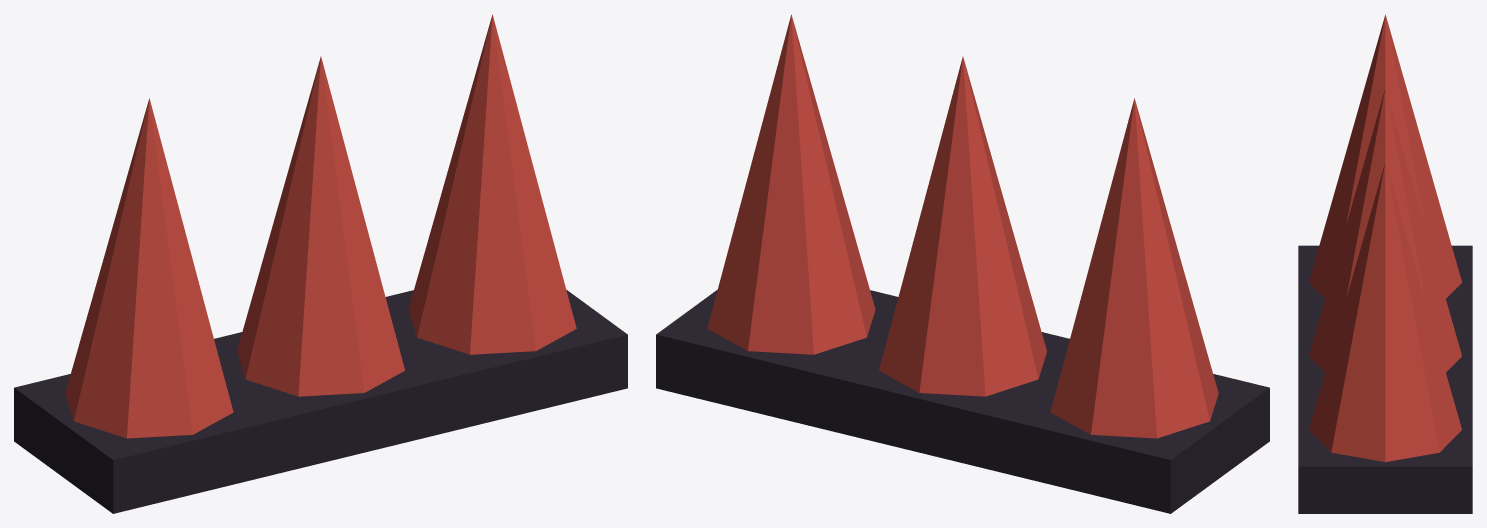
Rendered from spike_trap.glb.
3 renders of one model, left to right at view 1: azimuth 30°, elevation 25°; view 2: azimuth 150°, elevation 25°; view 3: azimuth 270°, elevation 25°, orthographic. The views are drawn at different scales.
Visible parts, largest first — view 1: SpikeTrap_Plate, SpikeTrap_Tooth_3, SpikeTrap_Tooth_1, SpikeTrap_Tooth_2; view 2: SpikeTrap_Plate, SpikeTrap_Tooth_3, SpikeTrap_Tooth_1, SpikeTrap_Tooth_2; view 3: SpikeTrap_Tooth_3, SpikeTrap_Plate, SpikeTrap_Tooth_1, SpikeTrap_Tooth_2.
Boxes of the visible parts, x1,y1,x2,y2 form: SpikeTrap_Plate: (14,290,627,513); SpikeTrap_Tooth_3: (408,14,576,354); SpikeTrap_Tooth_1: (65,98,233,438); SpikeTrap_Tooth_2: (237,56,404,396); SpikeTrap_Plate: (656,290,1269,513); SpikeTrap_Tooth_3: (707,14,875,354); SpikeTrap_Tooth_1: (1050,98,1218,438); SpikeTrap_Tooth_2: (879,56,1046,396); SpikeTrap_Tooth_3: (1309,161,1461,461); SpikeTrap_Plate: (1298,245,1472,513); SpikeTrap_Tooth_1: (1309,14,1461,298); SpikeTrap_Tooth_2: (1309,88,1461,372).
Bounding box in the file's own units: 1.5 × 1 × 0.5.
